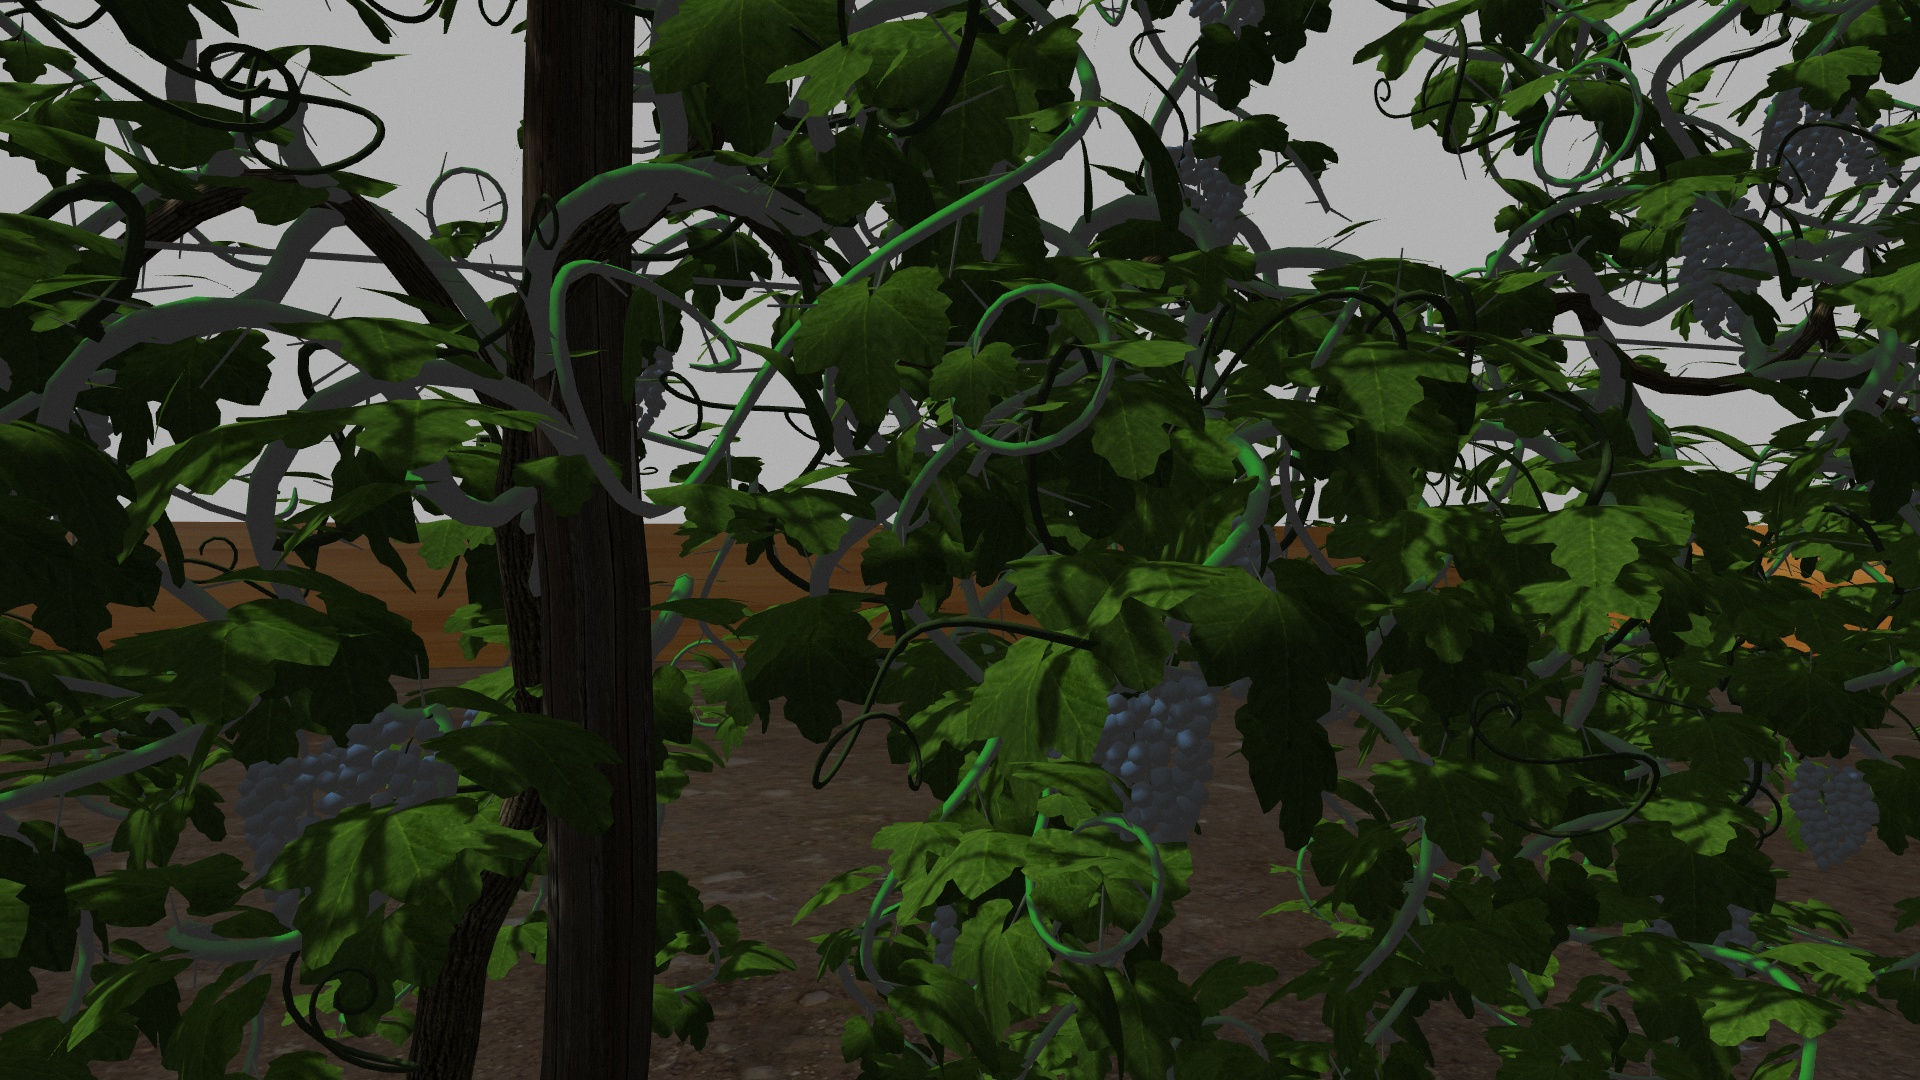grape: (1102, 684, 1218, 855), (235, 756, 332, 924), (340, 711, 465, 814), (1675, 200, 1768, 334), (1787, 764, 1882, 872), (1764, 84, 1844, 206), (1178, 150, 1249, 236), (1844, 113, 1895, 199)
